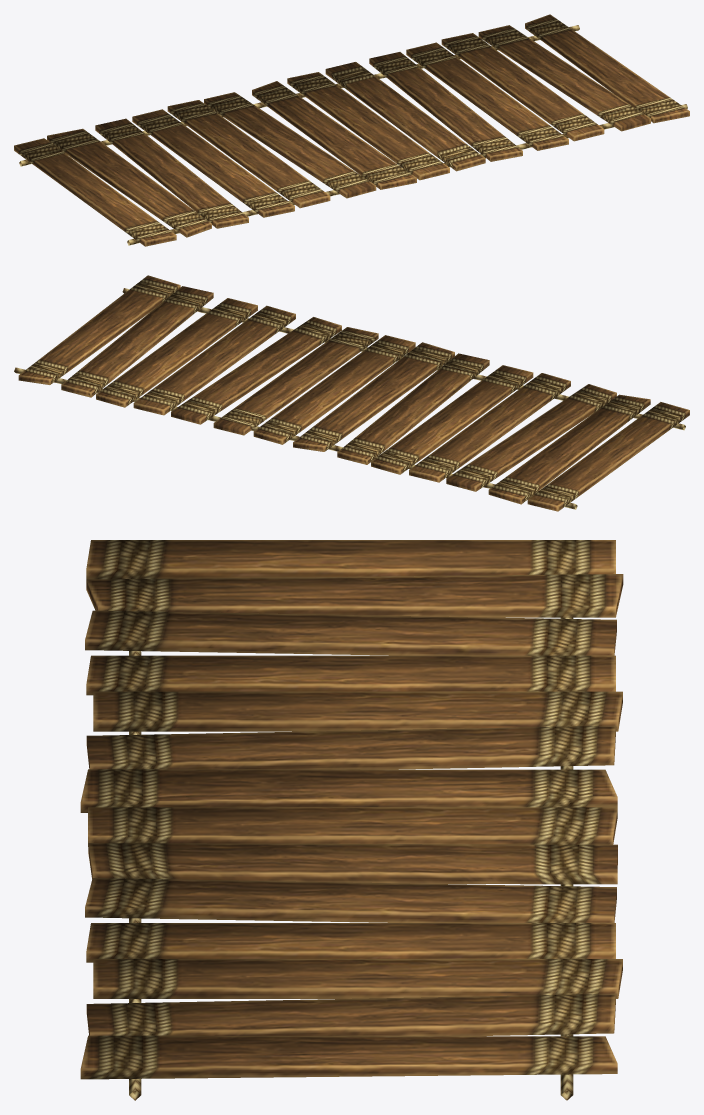
File: WoodenBridge03.FBX
3 renders of one model, top to bottom at view 1: azimuth 30°, elevation 25°; view 2: azimuth 150°, elevation 25°; view 3: azimuth 270°, elevation 25°, orthographic. The views are drawn at different scales.
Visible parts, largest first — view 1: WoddenBridge03; view 2: WoddenBridge03; view 3: WoddenBridge03.
Part boxes in pixels (bbox=[...]): WoddenBridge03: bbox=[14, 14, 689, 246]; WoddenBridge03: bbox=[14, 275, 689, 511]; WoddenBridge03: bbox=[80, 540, 623, 1100].
Bounding box in the file's own units: 14.92 × 6.28 × 0.2768.
